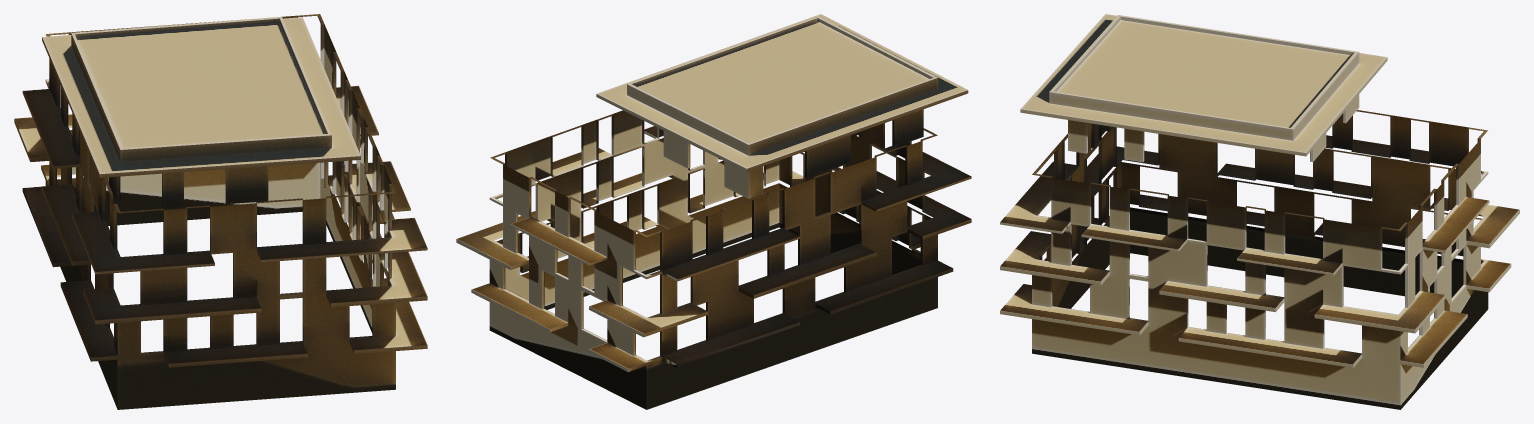
Rendered from Building_07.fbx.
3 renders of one model, left to right at view 1: azimuth 30°, elevation 25°; view 2: azimuth 150°, elevation 25°; view 3: azimuth 270°, elevation 25°, orthographic. The views are drawn at different scales.
Parts seen in each view (by area): view 1: Building_07; view 2: Building_07; view 3: Building_07.
Part boxes in pixels (x1=…): Building_07: x1=14, y1=14, x2=427, y2=409; Building_07: x1=456, y1=14, x2=971, y2=409; Building_07: x1=1000, y1=14, x2=1519, y2=409.
Bounding box in the file's own units: 26.42 × 15.8 × 31.36.
Materials: 1 (1 with a texture image).
